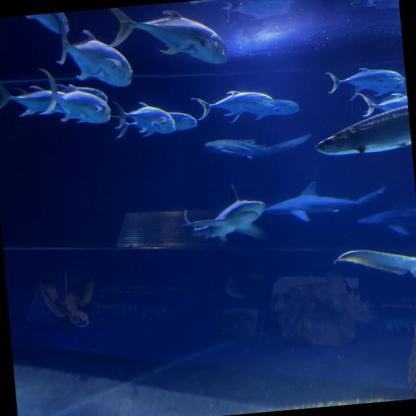fish: (105, 0, 232, 72), (302, 101, 412, 158), (58, 28, 140, 96), (35, 66, 115, 130), (207, 129, 314, 165), (320, 62, 405, 96), (0, 76, 65, 118), (110, 110, 206, 138), (112, 98, 179, 138), (36, 78, 110, 113), (192, 88, 274, 119), (224, 95, 302, 125), (6, 11, 78, 41), (348, 94, 408, 120), (350, 74, 406, 96), (0, 95, 4, 123)
shark: (265, 182, 382, 225), (177, 198, 266, 247), (356, 199, 416, 238)
